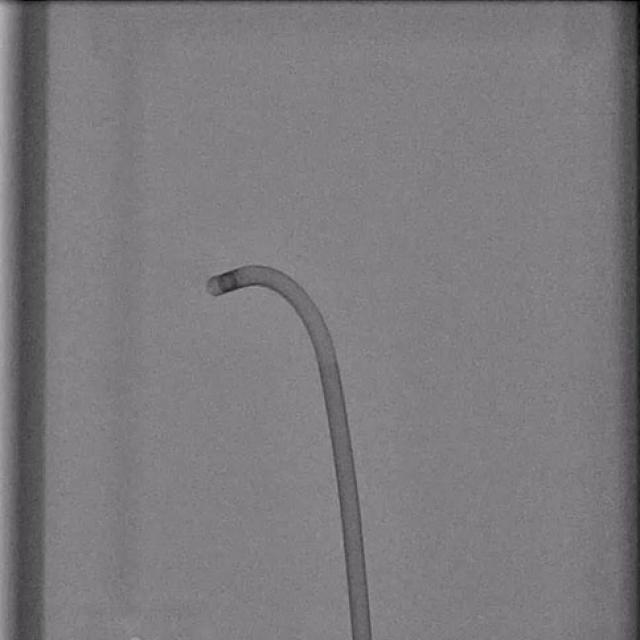bend: (316, 353, 339, 371)
entry: (353, 636, 374, 640)
marker: (215, 272, 238, 293)
tip: (208, 276, 216, 298)
